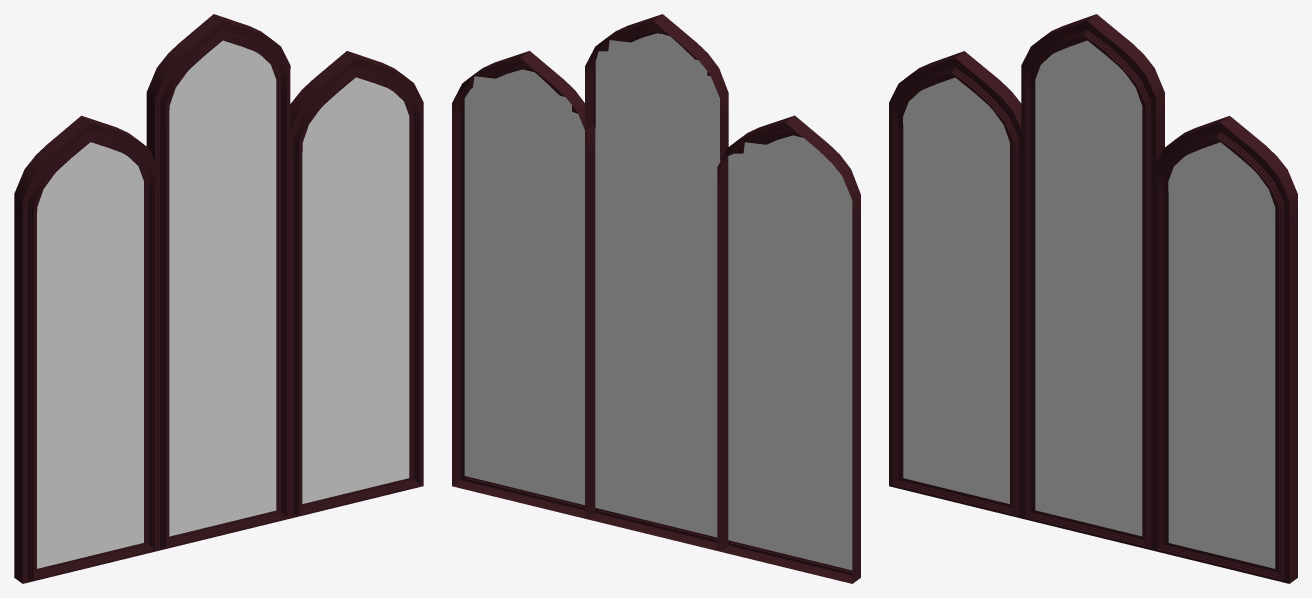
Rendered from Set Pointed Glass.fbx.
The picture shows the model from 3 angles, left to right: view 1: azimuth 30°, elevation 25°; view 2: azimuth 150°, elevation 25°; view 3: azimuth 330°, elevation 25°; orthographic projection.
Parts seen in each view (by area): view 1: Plane.028, Paint 1.020, Paint 1.021, Paint 1.022; view 2: Plane.028, Paint 1.022, Paint 1.021, Paint 1.020; view 3: Plane.028, Paint 1.022, Paint 1.021, Paint 1.020.
Boxes of the visible parts, x1,y1,x2,y2 form: Plane.028: [37, 40, 409, 568]; Paint 1.020: [14, 115, 158, 583]; Paint 1.021: [146, 14, 290, 550]; Paint 1.022: [288, 51, 423, 518]; Plane.028: [464, 33, 852, 570]; Paint 1.022: [452, 51, 595, 518]; Paint 1.021: [585, 14, 728, 551]; Paint 1.020: [717, 115, 860, 583]; Plane.028: [903, 40, 1275, 568]; Paint 1.022: [1154, 116, 1297, 583]; Paint 1.021: [1021, 14, 1164, 551]; Paint 1.020: [889, 51, 1023, 518].
Bounding box in the file's own units: 366 × 449 × 20.68.
